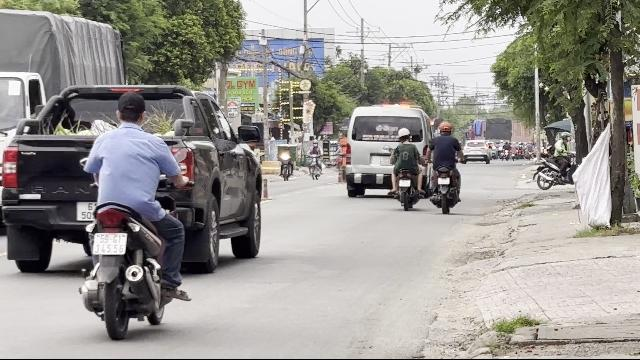licenseplate: (94, 233, 126, 255)
motorcyclist: (74, 92, 192, 336)
nohelmet: (114, 91, 146, 127)
